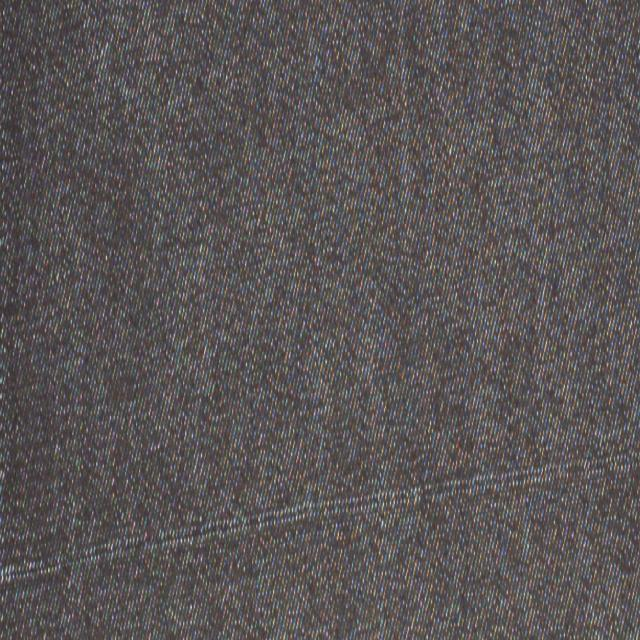Line: (2, 443, 640, 583)
